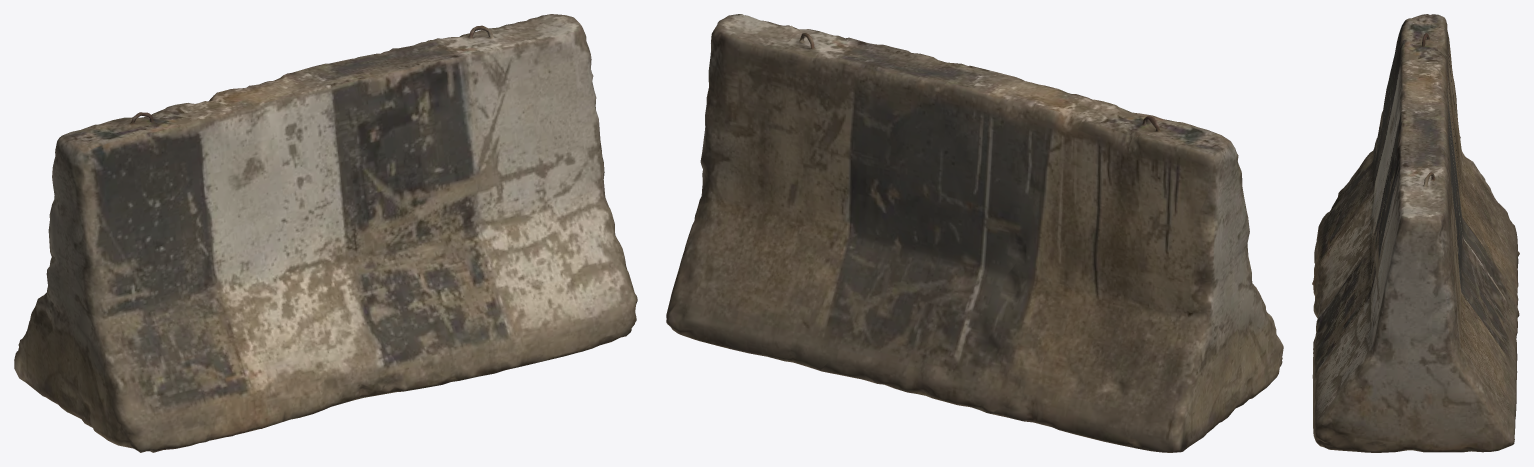
File: concrete_barrier.glb
3 renders of one model, left to right at view 1: azimuth 30°, elevation 25°; view 2: azimuth 150°, elevation 25°; view 3: azimuth 270°, elevation 25°, orthographic. The views are drawn at different scales.
Parts seen in each view (by area): view 1: concrete_road_barrier; view 2: concrete_road_barrier; view 3: concrete_road_barrier.
Boxes of the visible parts, x1,y1,x2,y2 form: concrete_road_barrier: (14,14,637,452); concrete_road_barrier: (666,14,1283,452); concrete_road_barrier: (1312,14,1519,452).
Bounding box in the file's own units: 1.54 × 0.8304 × 0.6387.
Materials: 1 (1 with a texture image).
